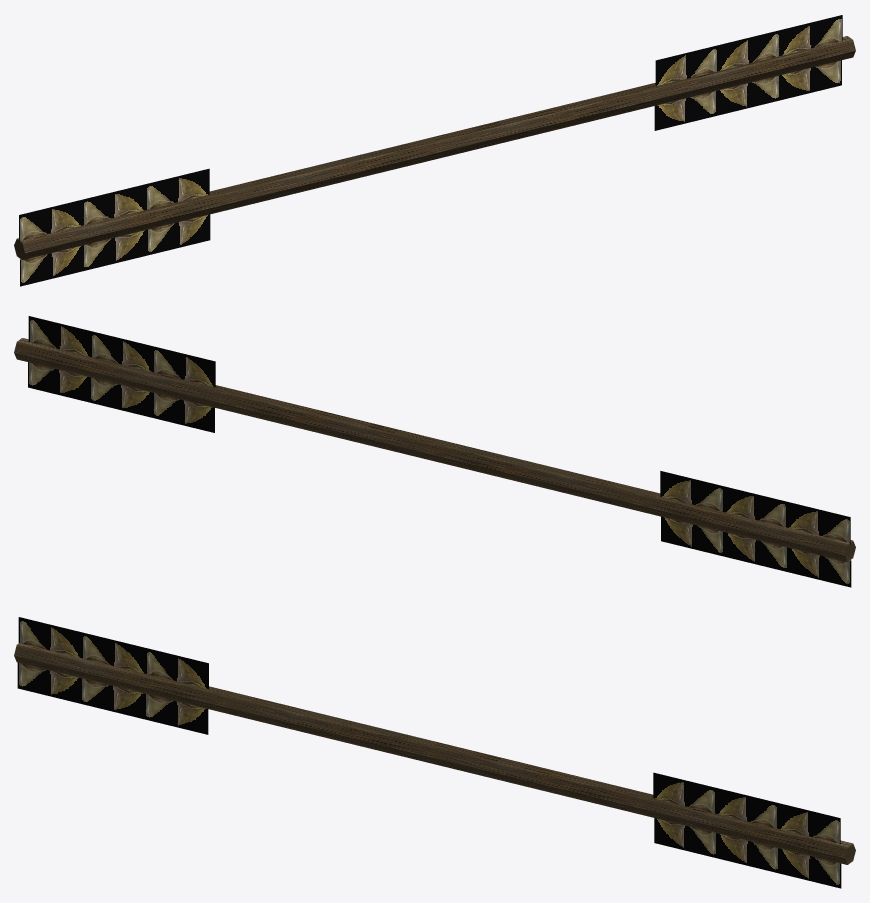
The picture shows the model from 3 angles, top to bottom: view 1: azimuth 30°, elevation 25°; view 2: azimuth 150°, elevation 25°; view 3: azimuth 330°, elevation 25°; orthographic projection.
Visible parts, largest first — view 1: it101; view 2: it101; view 3: it101.
Part boxes in pixels (left/top/right/bottom): it101: left=14, top=15, right=855, bottom=286; it101: left=14, top=316, right=855, bottom=587; it101: left=14, top=617, right=855, bottom=888.
Size of the model in its own units: 6.38 by 0.5212 by 0.1472.
Materials: 2 (2 with a texture image).
